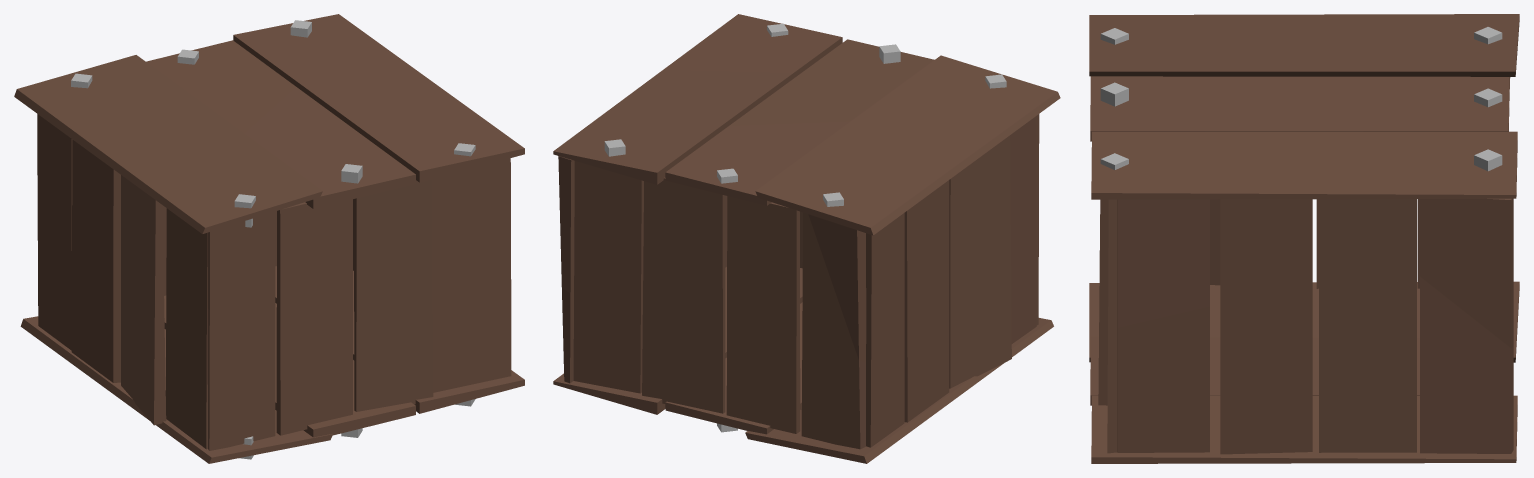
File: BoxCrushed.fbx
3 views of the same model, side by side, from view 1: azimuth 30°, elevation 25°; view 2: azimuth 150°, elevation 25°; view 3: azimuth 270°, elevation 25° (orthographic). The views are drawn at different scales.
Parts seen in each view (by area): view 1: polySurface177.001, polySurface170.001, polySurface169.001, polySurface158, polySurface184.001, polySurface157, polySurface165, polySurface166, polySurface152, polySurface190.001, polySurface148, polySurface147 (+8 smaller); view 2: polySurface177.001, polySurface171.001, polySurface172, polySurface158, polySurface184.001, polySurface163, polySurface159, polySurface157, polySurface190.001, polySurface160, polySurface147, polySurface148 (+10 smaller); view 3: polySurface177.001, polySurface191.001, polySurface192.001, polySurface158, polySurface174.001, polySurface153, polySurface157, polySurface175.001, polySurface173.001, polySurface147, polySurface148, polySurface182.001 (+9 smaller).
Part boxes in pixels (<box>): polySurface177.001: <box>14,55,322,233</box>; polySurface170.001: <box>432,158,511,392</box>; polySurface169.001: <box>276,199,352,435</box>; polySurface158: <box>233,14,448,140</box>; polySurface184.001: <box>121,175,166,425</box>; polySurface157: <box>244,87,415,208</box>; polySurface165: <box>207,309,275,450</box>; polySurface166: <box>354,268,433,411</box>; polySurface152: <box>354,179,432,319</box>; polySurface190.001: <box>37,114,72,350</box>; polySurface148: <box>370,94,524,182</box>; polySurface147: <box>146,40,295,133</box>; polySurface177.001: <box>755,55,1060,235</box>; polySurface171.001: <box>642,177,725,413</box>; polySurface172: <box>573,161,642,393</box>; polySurface158: <box>553,69,793,184</box>; polySurface184.001: <box>949,135,1011,388</box>; polySurface163: <box>801,212,865,449</box>; polySurface159: <box>760,202,800,433</box>; polySurface157: <box>729,39,934,126</box>; polySurface190.001: <box>866,213,904,447</box>; polySurface160: <box>726,196,762,423</box>; polySurface147: <box>665,121,849,205</box>; polySurface148: <box>664,14,842,77</box>; polySurface177.001: <box>1089,14,1519,76</box>; polySurface191.001: <box>1319,199,1416,452</box>; polySurface192.001: <box>1220,199,1312,454</box>; polySurface158: <box>1205,131,1517,199</box>; polySurface174.001: <box>1420,276,1513,453</box>; polySurface153: <box>1117,307,1209,452</box>; polySurface157: <box>1090,76,1363,141</box>; polySurface175.001: <box>1117,199,1209,327</box>; polySurface173.001: <box>1420,198,1513,348</box>; polySurface147: <box>1275,76,1509,131</box>; polySurface148: <box>1091,131,1263,199</box>; polySurface182.001: <box>1091,395,1517,463</box>.
Size of the model in its own units: 75 by 58.77 by 75.7.
